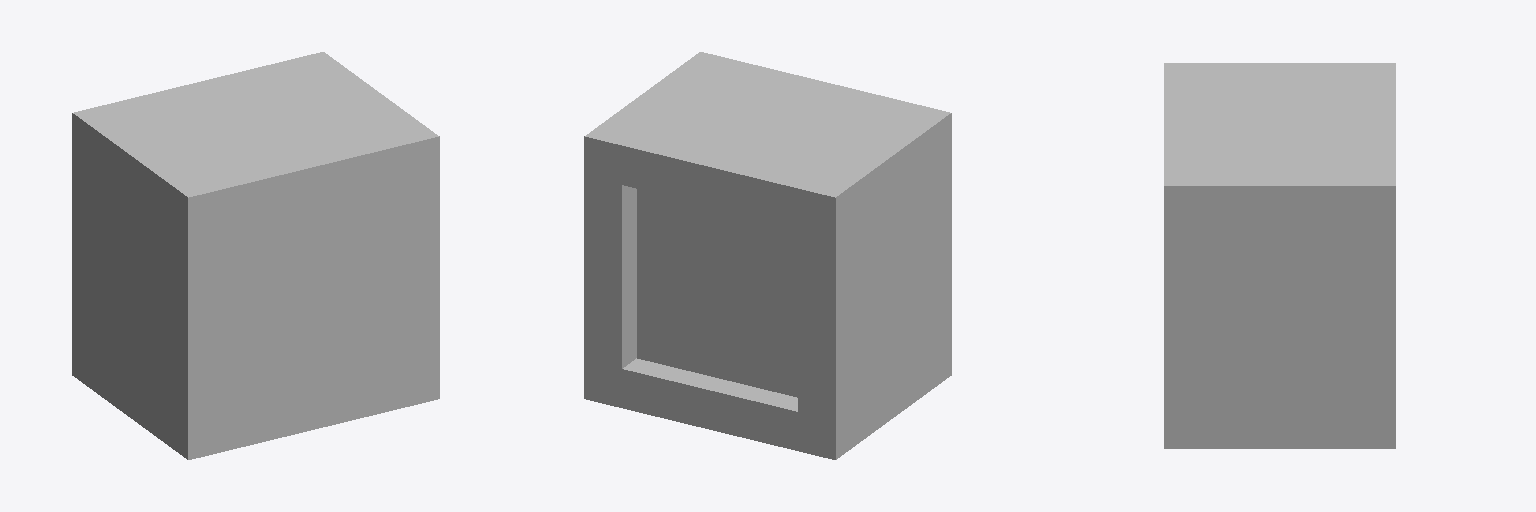
The model's file is mylandscaping_column_m_lower.obj.
3 renders of one model, left to right at view 1: azimuth 30°, elevation 25°; view 2: azimuth 150°, elevation 25°; view 3: azimuth 270°, elevation 25°, orthographic.
Visible parts, largest first — view 1: Block_Pillar_Bottom_Cube.003; view 2: Block_Pillar_Bottom_Cube.003; view 3: Block_Pillar_Bottom_Cube.003.
Boxes of the visible parts, box(x1,y1,x2,y2) form: Block_Pillar_Bottom_Cube.003: box(72, 52, 439, 459); Block_Pillar_Bottom_Cube.003: box(584, 52, 951, 459); Block_Pillar_Bottom_Cube.003: box(1164, 63, 1395, 448).
Size of the model in its own units: 1 by 1 by 0.8.